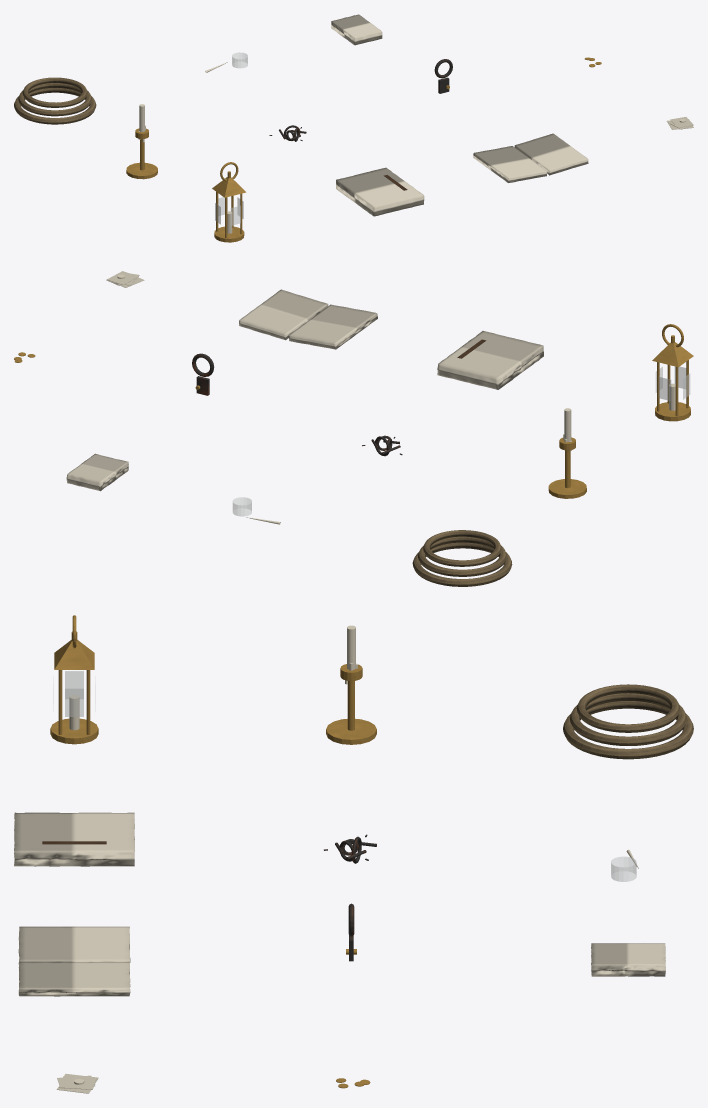
File: tls_prp_030_investigation_set_v2.glb
The picture shows the model from 3 angles, top to bottom: view 1: azimuth 30°, elevation 25°; view 2: azimuth 150°, elevation 25°; view 3: azimuth 270°, elevation 25°; orthographic projection. The views are drawn at different scales.
Visible parts, largest first — view 1: TLS_Ledger_Pages, TLS_LedgerOpen_Pages1, TLS_LedgerOpen_Pages-1, TLS_Bible_Pages, TLS_Rope_Coil0, TLS_Rope_Coil1, TLS_Rope_Coil2, TLS_Candle_Base, TLS_Lantern_Top; view 2: TLS_Ledger_Pages, TLS_LedgerOpen_Pages1, TLS_LedgerOpen_Pages-1, TLS_Bible_Pages, TLS_Rope_Coil0, TLS_Rope_Coil1, TLS_Rope_Coil2, TLS_Candle_Base, TLS_Lantern_Top, TLS_Lantern_Base; view 3: TLS_Ledger_Pages, TLS_LedgerOpen_Pages-1, TLS_LedgerOpen_Pages1, TLS_Bible_Pages, TLS_Rope_Coil0, TLS_Rope_Coil1, TLS_Rope_Coil2, TLS_Candle_Base, TLS_Lantern_Top, TLS_Lantern_Base.
Boxes of the visible parts, x1,y1,x2,y2 form: TLS_Ledger_Pages: (336, 167, 424, 216); TLS_LedgerOpen_Pages1: (514, 133, 588, 175); TLS_LedgerOpen_Pages-1: (473, 146, 547, 182); TLS_Bible_Pages: (331, 14, 382, 45); TLS_Rope_Coil0: (14, 88, 96, 124); TLS_Rope_Coil1: (18, 83, 91, 116); TLS_Rope_Coil2: (22, 77, 87, 107); TLS_Candle_Base: (126, 162, 157, 179); TLS_Lantern_Top: (212, 177, 246, 197); TLS_Ledger_Pages: (437, 331, 543, 389); TLS_LedgerOpen_Pages1: (239, 289, 328, 340); TLS_LedgerOpen_Pages-1: (288, 304, 377, 349); TLS_Bible_Pages: (66, 453, 128, 491); TLS_Rope_Coil0: (412, 542, 512, 586); TLS_Rope_Coil1: (418, 536, 506, 576); TLS_Rope_Coil2: (423, 530, 501, 566); TLS_Candle_Base: (548, 479, 586, 498); TLS_Lantern_Top: (652, 342, 693, 367); TLS_Lantern_Base: (655, 402, 690, 421); TLS_Ledger_Pages: (14, 812, 134, 866); TLS_LedgerOpen_Pages-1: (18, 926, 130, 967); TLS_LedgerOpen_Pages1: (18, 962, 130, 996); TLS_Bible_Pages: (591, 943, 665, 976); TLS_Rope_Coil0: (563, 701, 693, 759); TLS_Rope_Coil1: (570, 693, 686, 745); TLS_Rope_Coil2: (576, 684, 679, 732); TLS_Candle_Base: (326, 718, 376, 744); TLS_Lantern_Top: (54, 640, 94, 669); TLS_Lantern_Base: (50, 718, 98, 744).
Bounding box in the file's own units: 1.99 × 0.307 × 1.47.
8 materials, 5 textured.
